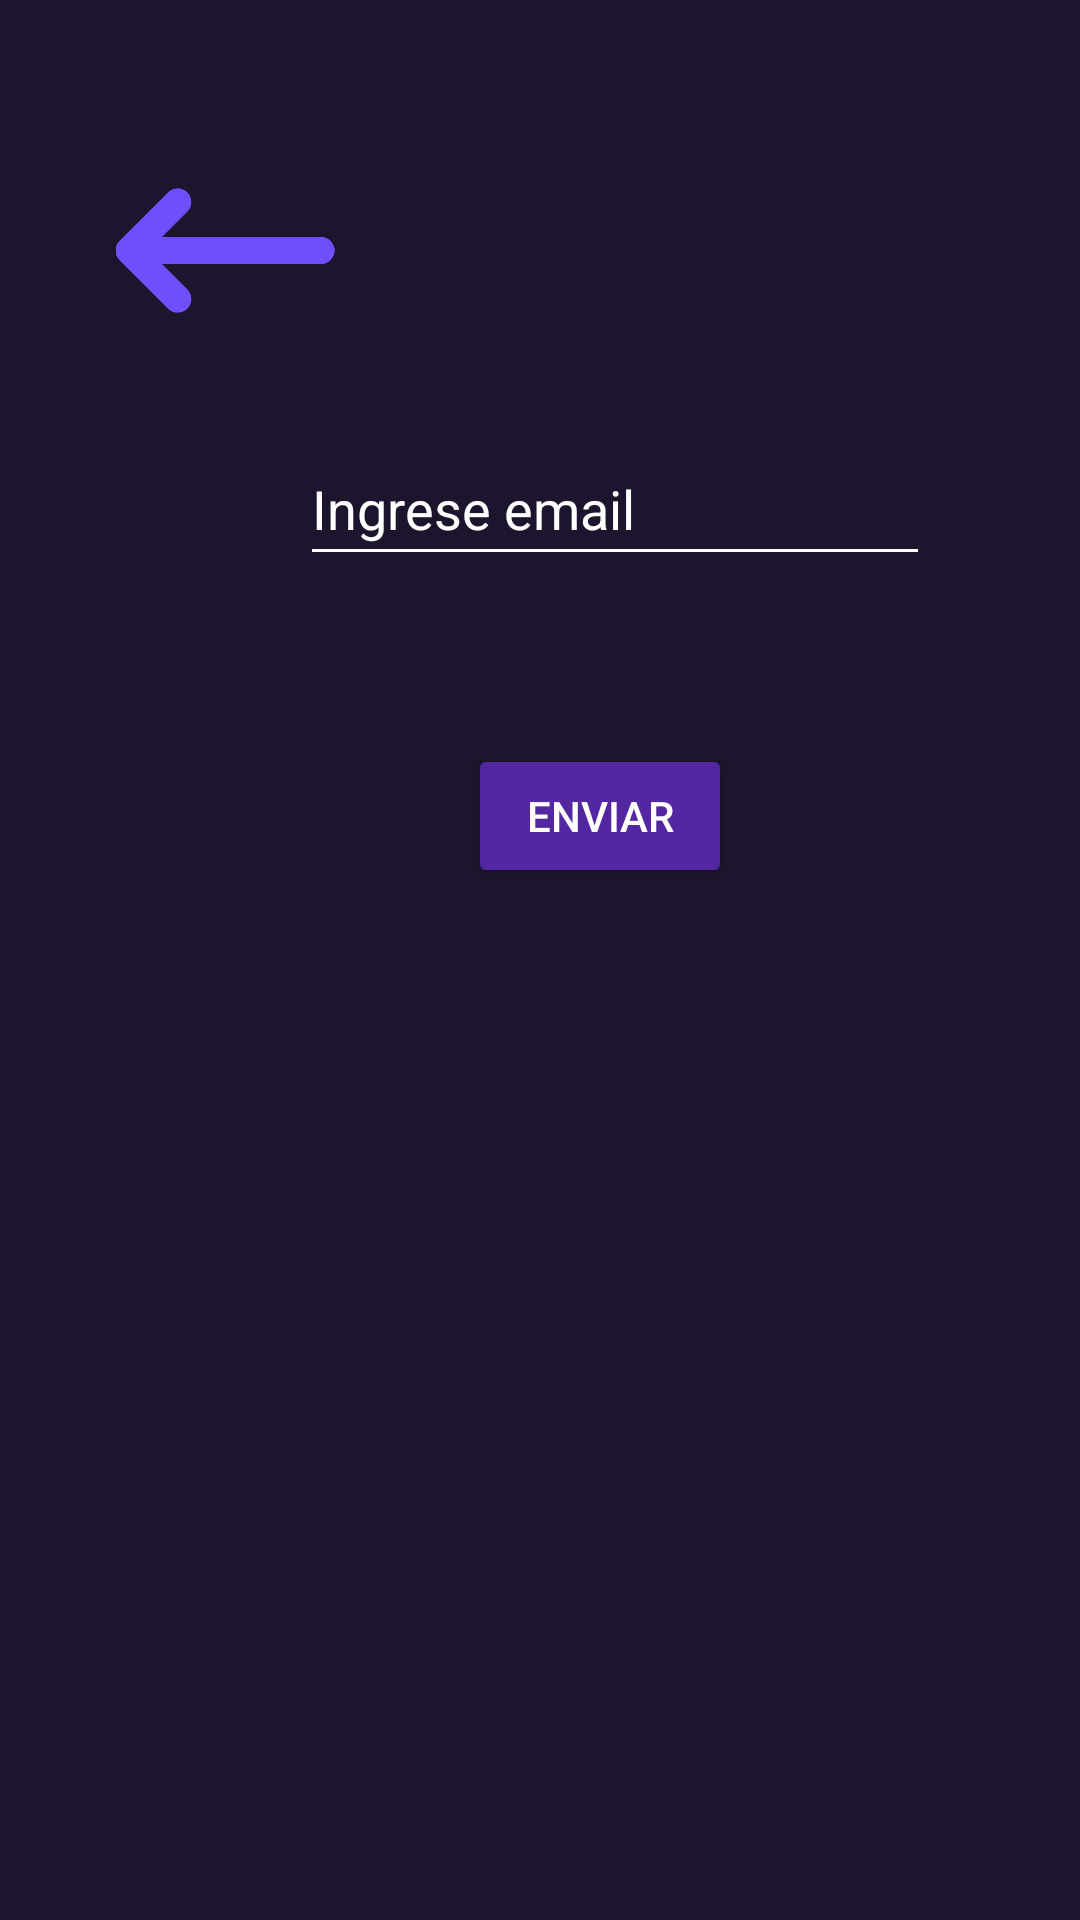

Locate icon controls on the screen. Image size 1080 x 1920, boxes as (x1, y1, x2, y2).
left arrow: (116, 188, 335, 313)
